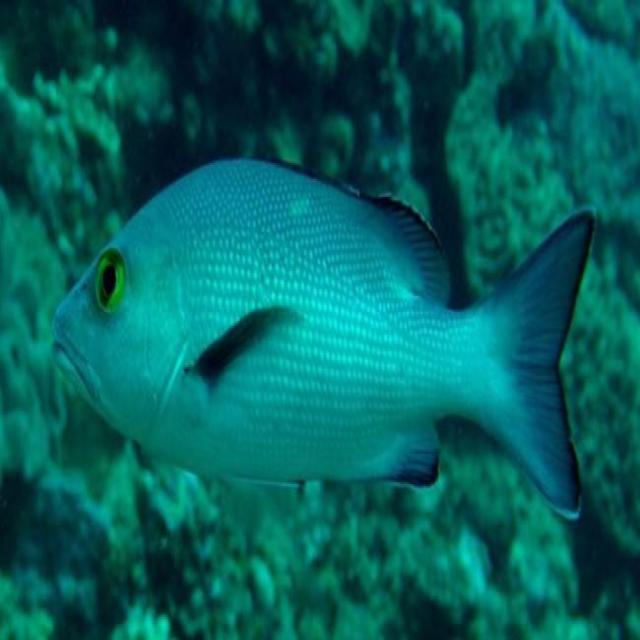ikan: (50, 153, 596, 522)
